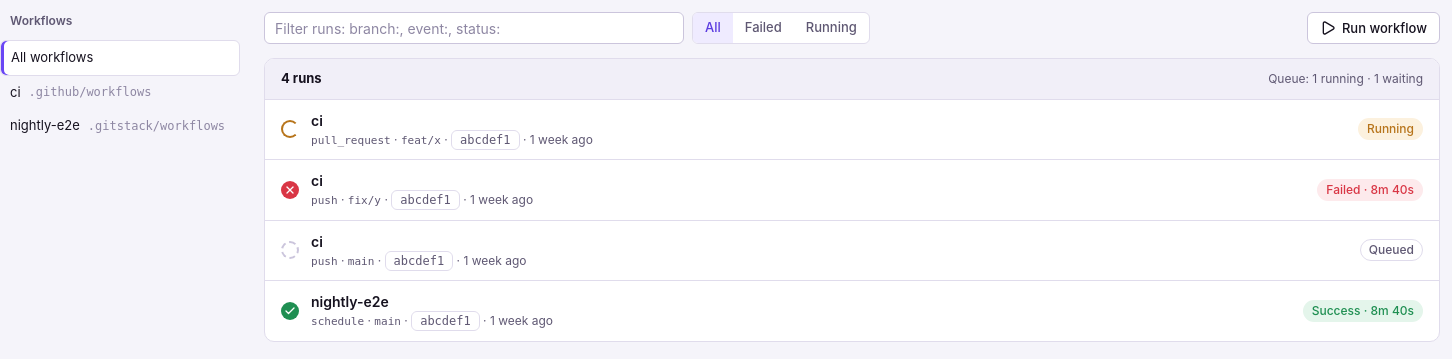
Test: ActionsPage › filtra per Failed, per testo e per workflow
Click the button "Failed" at (763, 28), box [733,13,794,43]
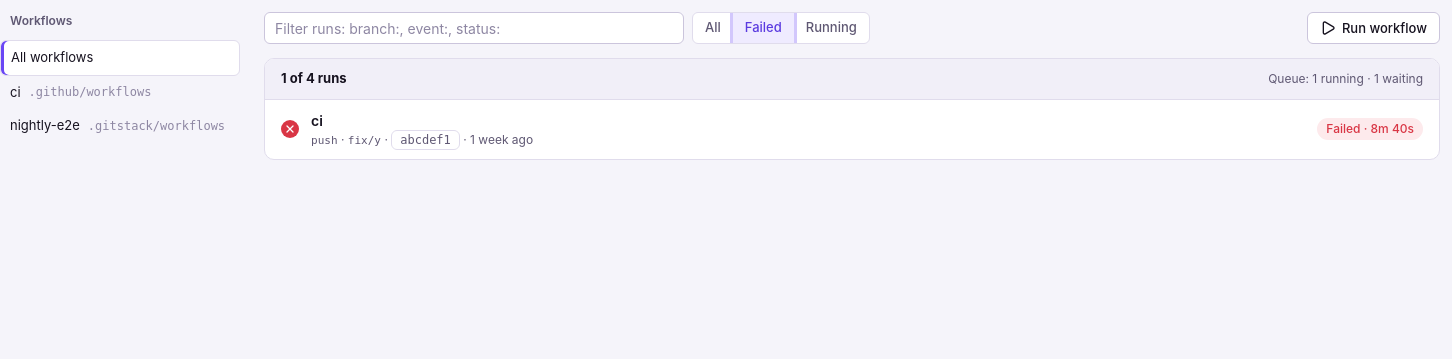
Check: the number of list items is 1, box [265,98,1439,159]
Click the button "All" at (713, 28), box [693,13,733,43]
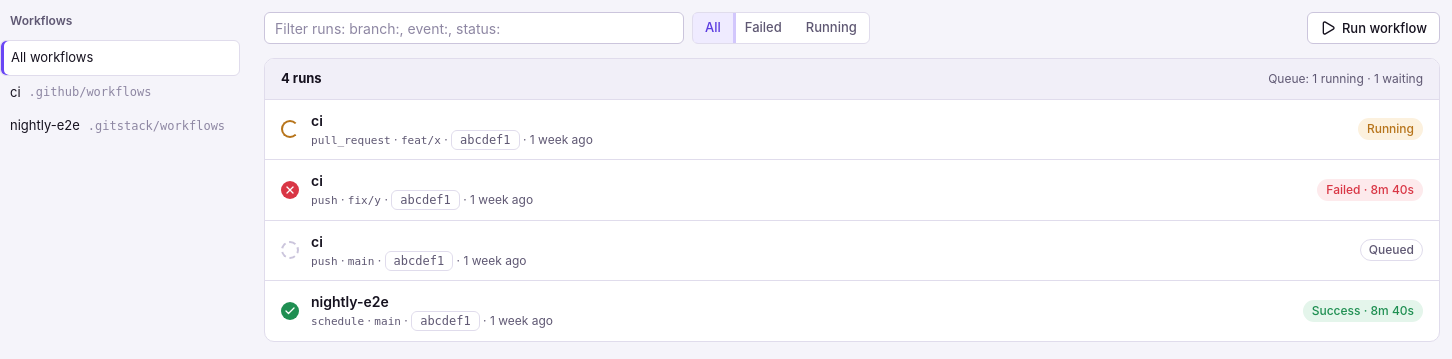
Type "event:schedule" into the field labelled "Filter runs" at (474, 28), box [264,12,684,44]
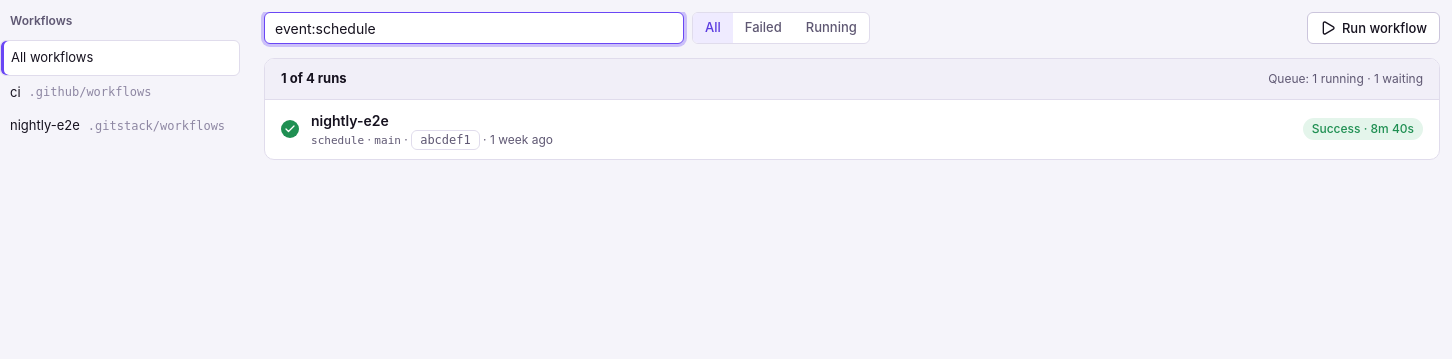
Check: the number of list items is 1, box [265,98,1439,159]
Clear the field named "Filter runs" at (474, 28), box [264,12,684,44]
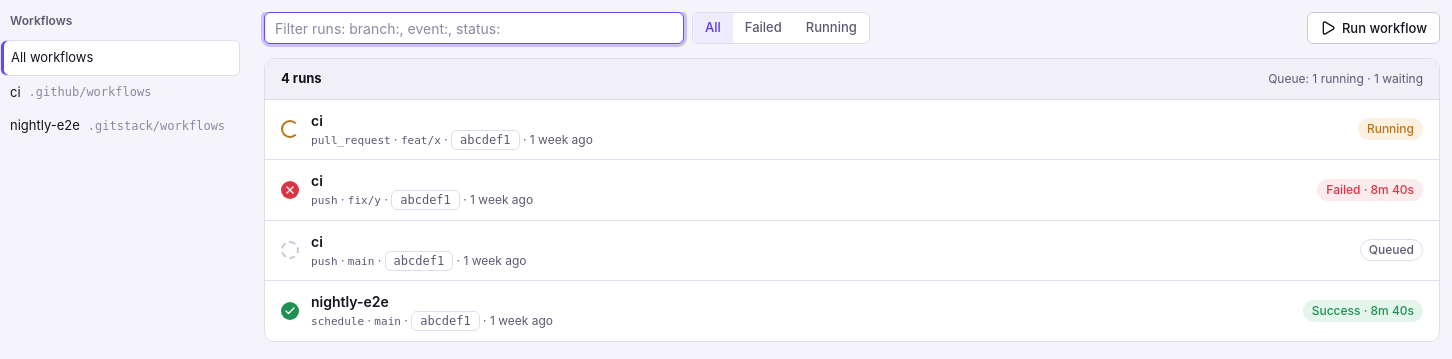
Click the link "nightly-e2e .gitstack/workflows" at (118, 125), box [10,117,225,133]
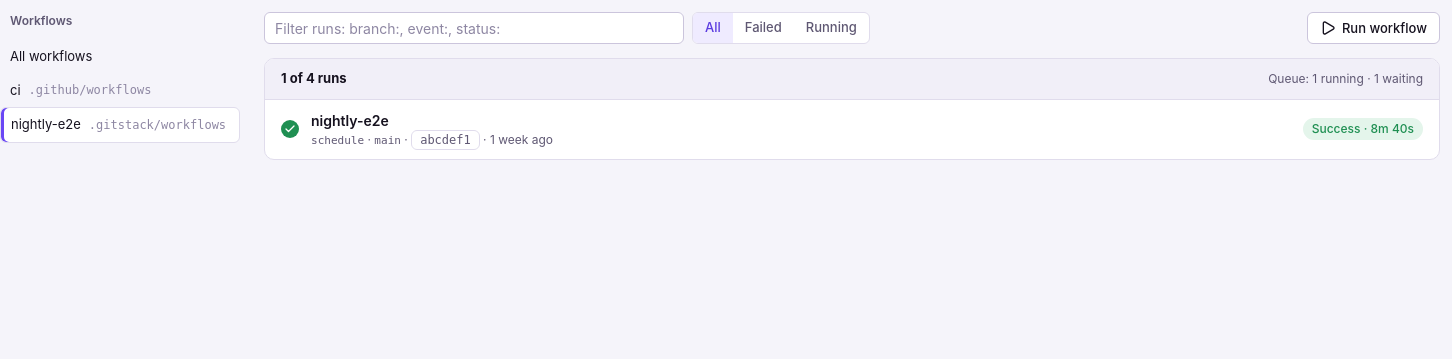
Check: the number of list items is 1, box [265,98,1439,159]
